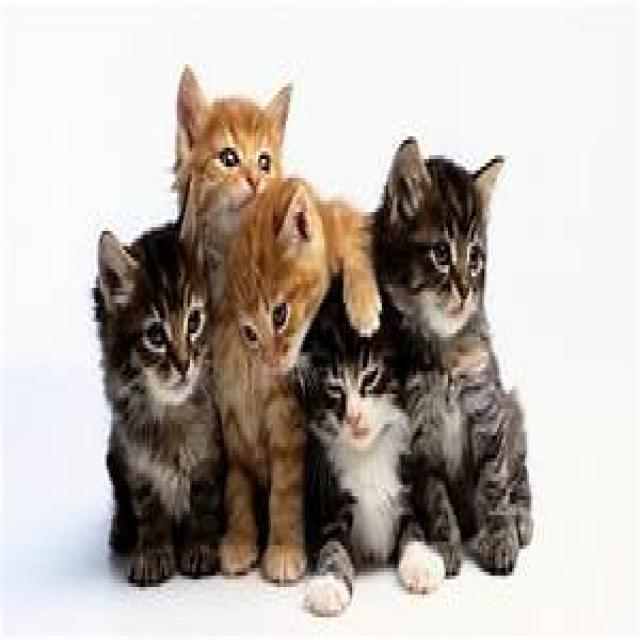animal: (389, 129, 575, 550), (84, 192, 207, 609), (302, 331, 416, 611), (161, 39, 298, 260), (207, 188, 324, 408)
